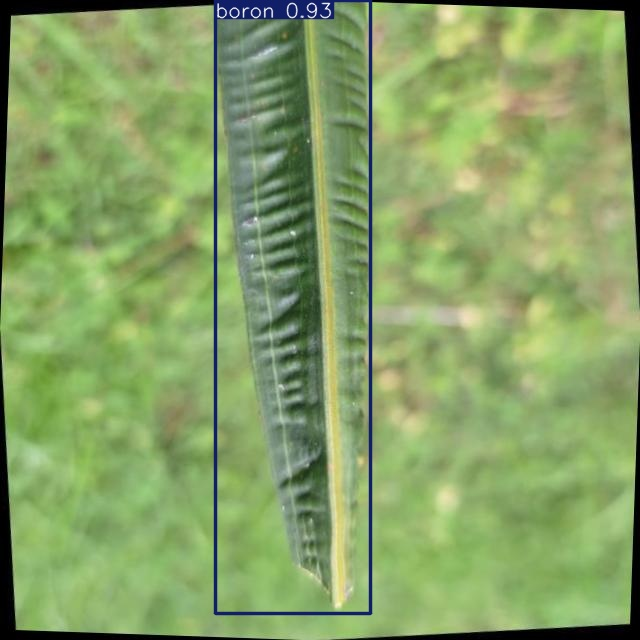nitrogen: (215, 0, 371, 613)
